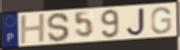5: (73, 10, 96, 41)
9: (99, 8, 121, 40)
G: (150, 6, 173, 35)
H: (19, 12, 47, 46)
J: (125, 7, 147, 38)
S: (46, 11, 71, 43)
